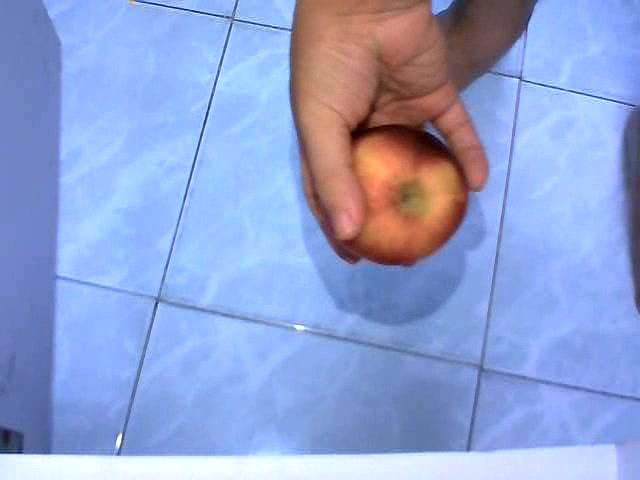apple: (340, 124, 470, 264)
